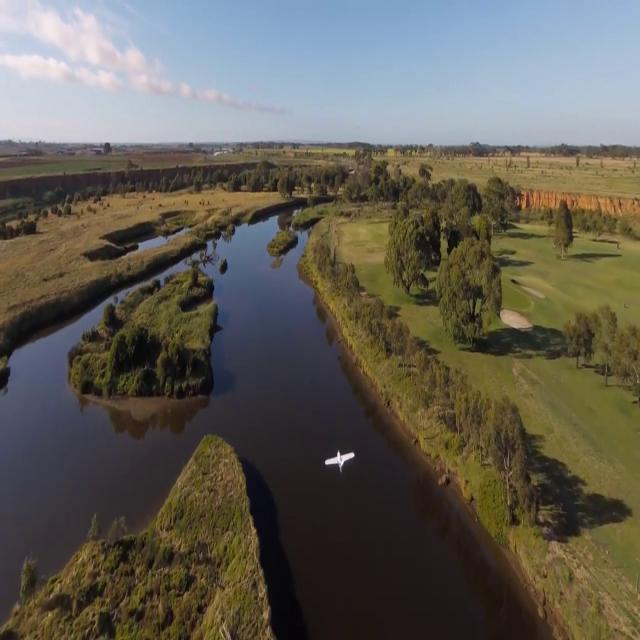iha: (325, 448, 356, 478)
